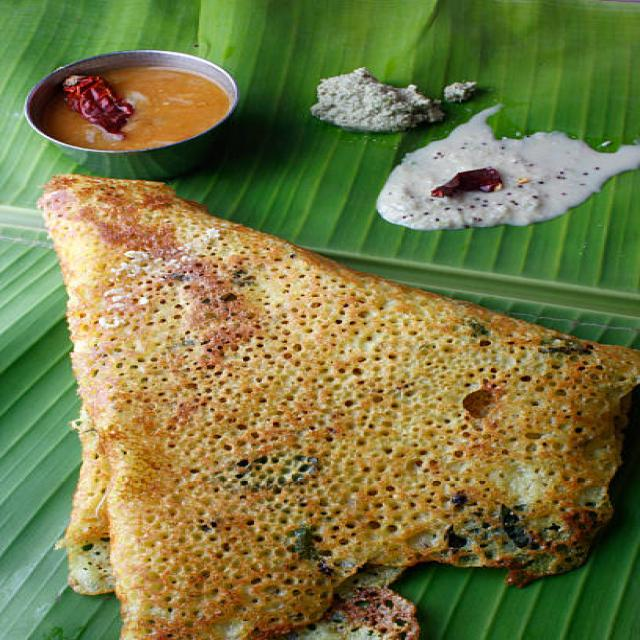DOSA: (37, 177, 635, 639)
SAMBAR: (37, 63, 223, 145)
WHITE CHUTNEY: (303, 72, 635, 230)
